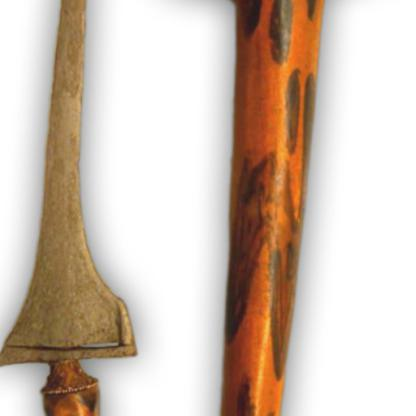knife: (0, 0, 170, 415)
